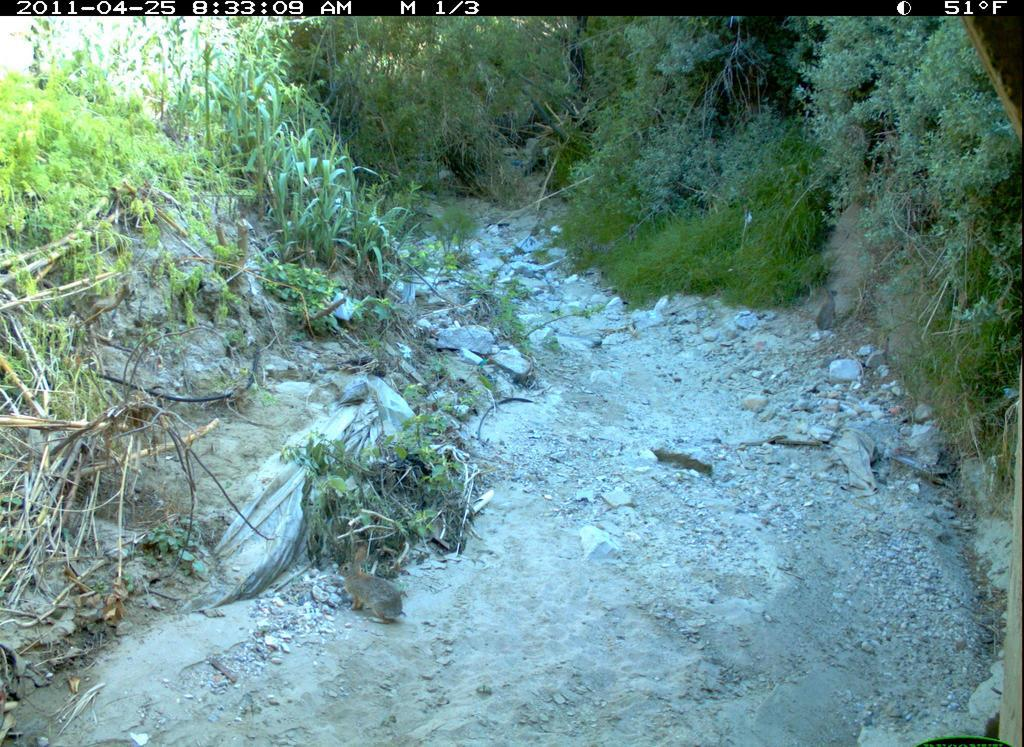rabbit: (323, 539, 425, 635)
